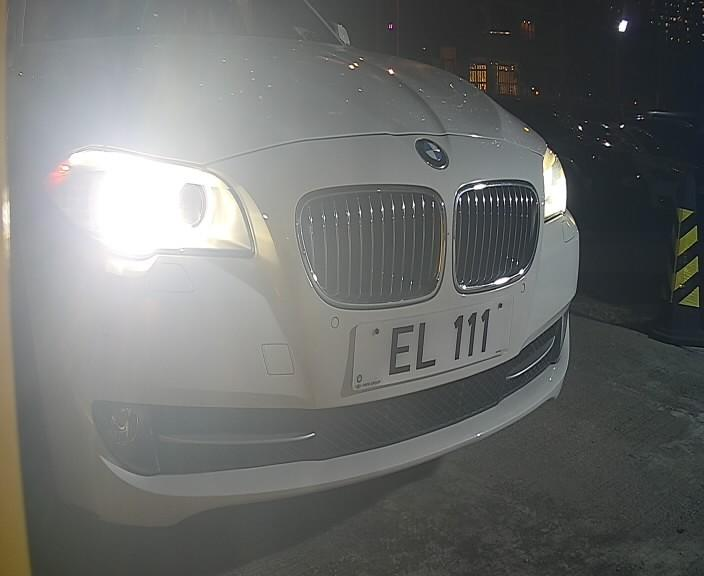privatecar: (2, 2, 601, 518)
